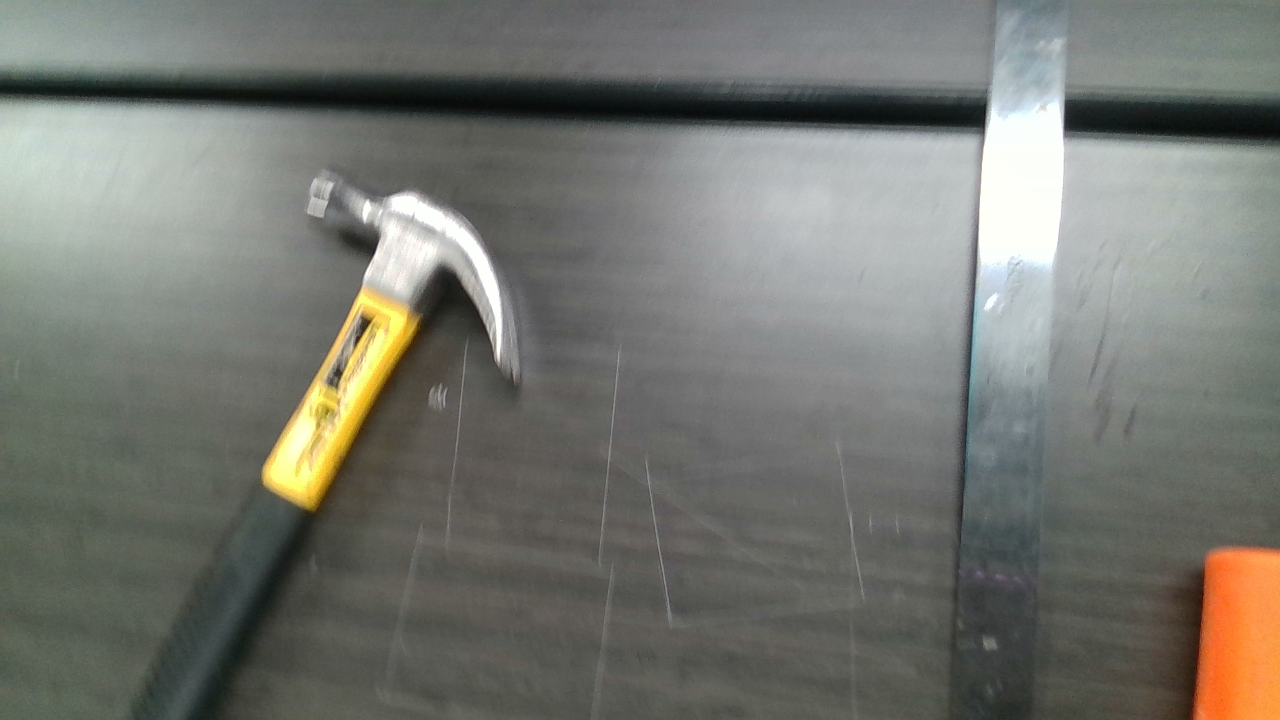Orange Hammer: (1195, 549, 1280, 720)
